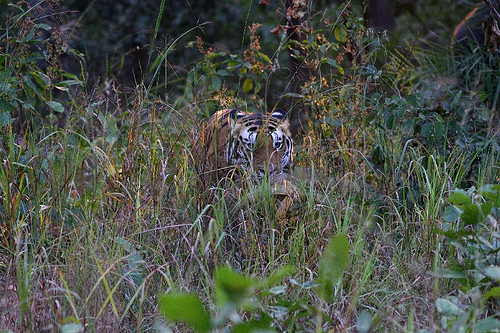Tigre: (209, 100, 301, 192)
